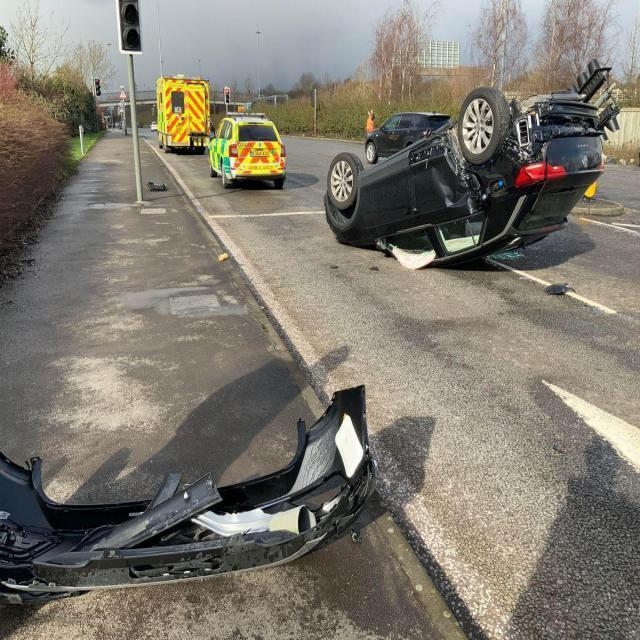severe: (322, 83, 609, 272)
